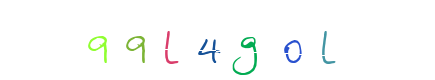0: (208, 0, 288, 80)
4: (177, 0, 257, 80)
9: (79, 0, 159, 80), (128, 0, 208, 80)
G: (207, 0, 287, 80)
L: (159, 0, 239, 80), (245, 0, 325, 80)
